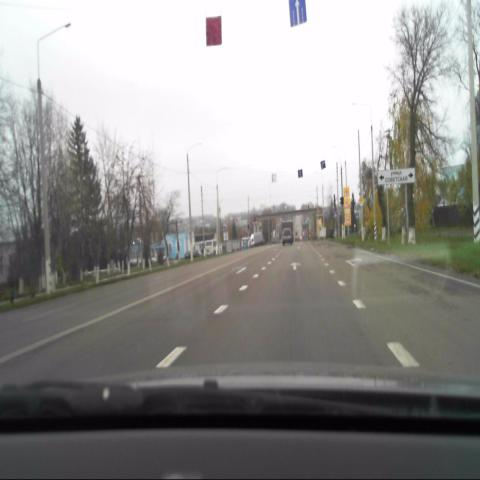5_15_2: (288, 0, 308, 28)
